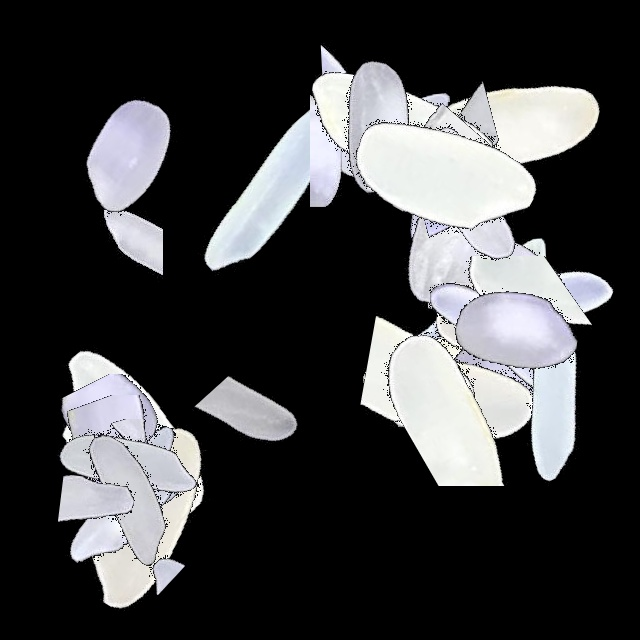Broken: (269, 85, 519, 259), (428, 285, 602, 535), (321, 75, 571, 238), (279, 25, 529, 186), (359, 327, 609, 486), (0, 374, 250, 524), (0, 395, 250, 541), (297, 64, 547, 209), (314, 301, 564, 445), (136, 370, 386, 507), (1, 442, 251, 574), (95, 341, 216, 591), (42, 120, 163, 370), (244, 87, 494, 207), (383, 49, 495, 299), (390, 256, 640, 365), (384, 34, 490, 284), (376, 283, 626, 388), (428, 199, 532, 449), (490, 269, 594, 519), (447, 0, 548, 250), (463, 171, 556, 421), (7, 419, 257, 505), (422, 83, 506, 333), (14, 515, 264, 595)
Full: (0, 316, 250, 566), (21, 390, 271, 640), (0, 336, 250, 586), (357, 0, 607, 250), (381, 0, 631, 250), (390, 207, 640, 457), (390, 188, 640, 438), (142, 68, 392, 318), (351, 223, 601, 473), (390, 163, 640, 413), (346, 247, 596, 497), (2, 357, 252, 607), (0, 387, 250, 637), (390, 243, 640, 493), (316, 114, 566, 364), (0, 344, 250, 594), (377, 217, 627, 467), (0, 375, 250, 625), (324, 272, 574, 522), (276, 8, 526, 258), (250, 0, 500, 250), (2, 30, 252, 280), (390, 206, 640, 456), (345, 69, 595, 319), (317, 49, 567, 299)
